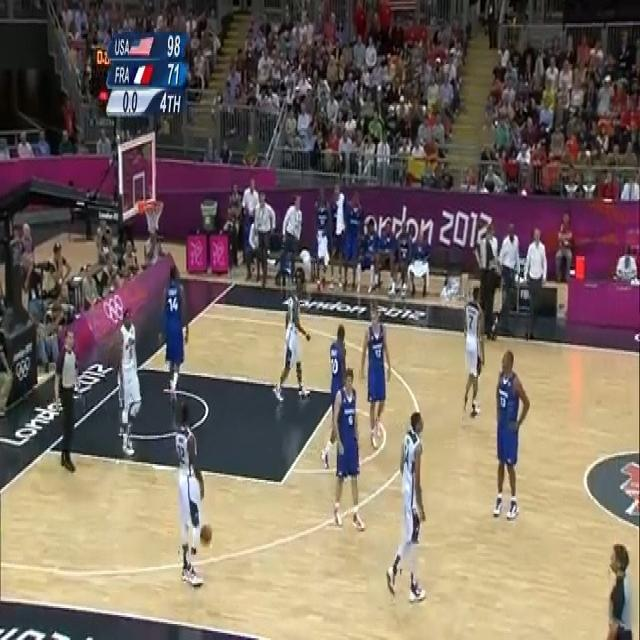basketball: (198, 522, 213, 548)
hoop: (142, 197, 162, 233)
